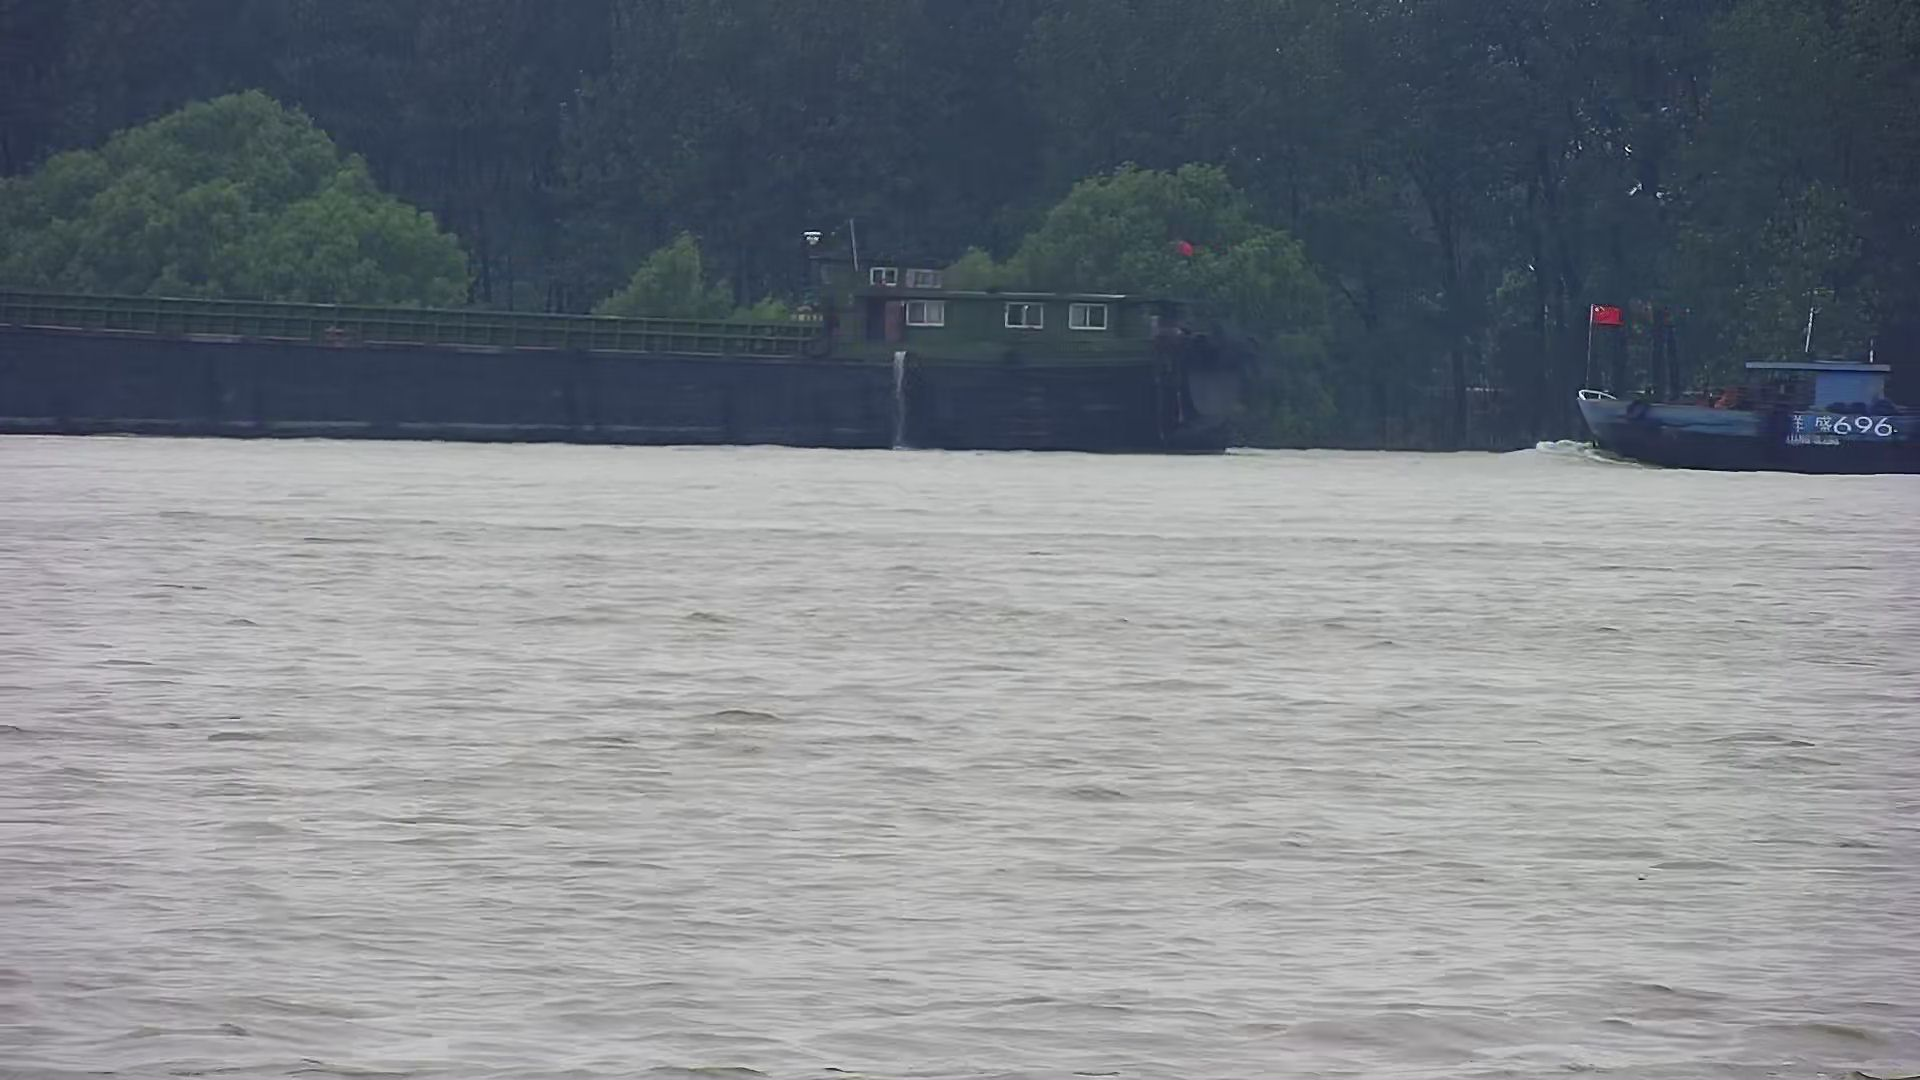ship: (1, 218, 1258, 452), (1572, 299, 1920, 480)
